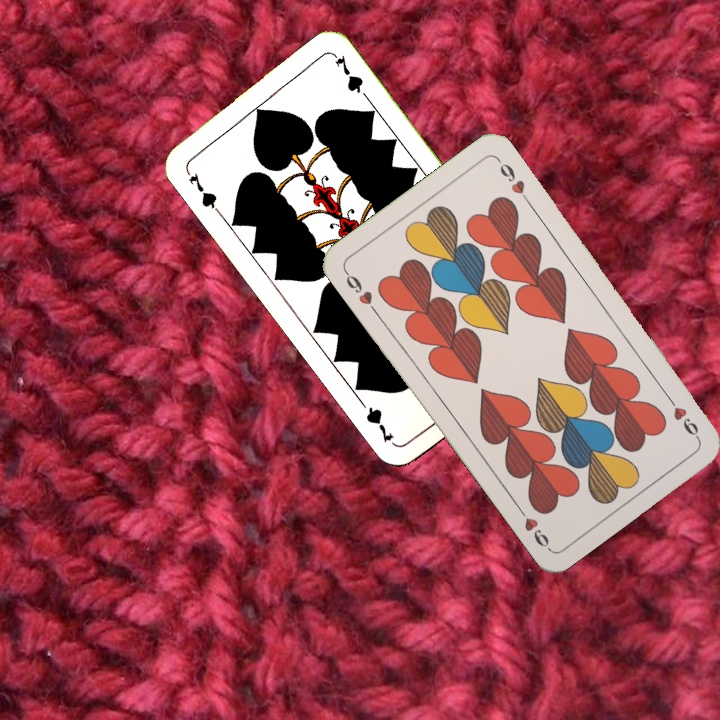G7: (181, 164, 223, 215)
H9: (340, 266, 381, 317), (661, 390, 702, 441)
